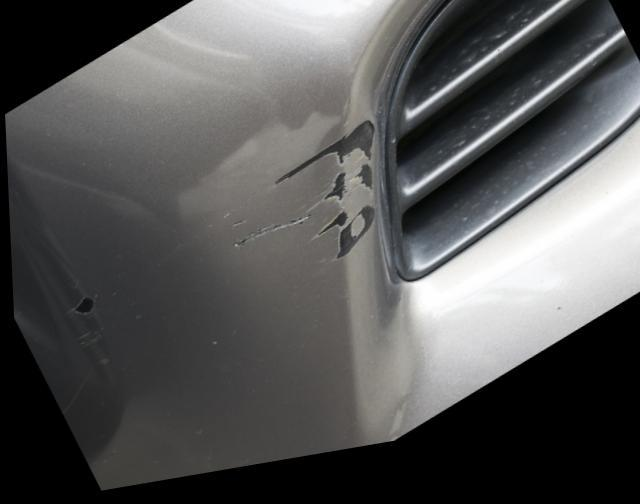scratch: (208, 131, 381, 281), (69, 291, 109, 373)
